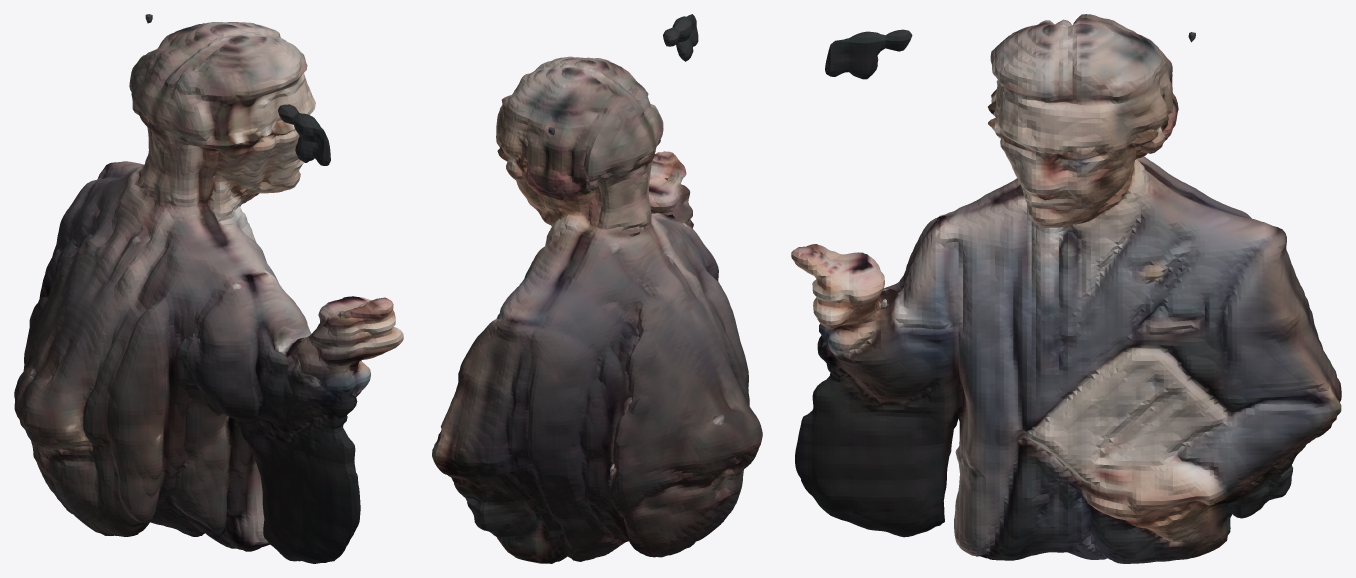
File: procureur_3d.glb
3 views of the same model, side by side, from view 1: azimuth 30°, elevation 25°; view 2: azimuth 150°, elevation 25°; view 3: azimuth 270°, elevation 25° (orthographic). The views are drawn at different scales.
Visible parts, largest first — view 1: geometry_0; view 2: geometry_0; view 3: geometry_0.
Part boxes in pixels (x1,y1,x2,y2): geometry_0: (14,14,403,563); geometry_0: (432,14,762,563); geometry_0: (791,14,1341,563).
Bounding box in the file's own units: 0.5326 × 0.8933 × 0.8231.
